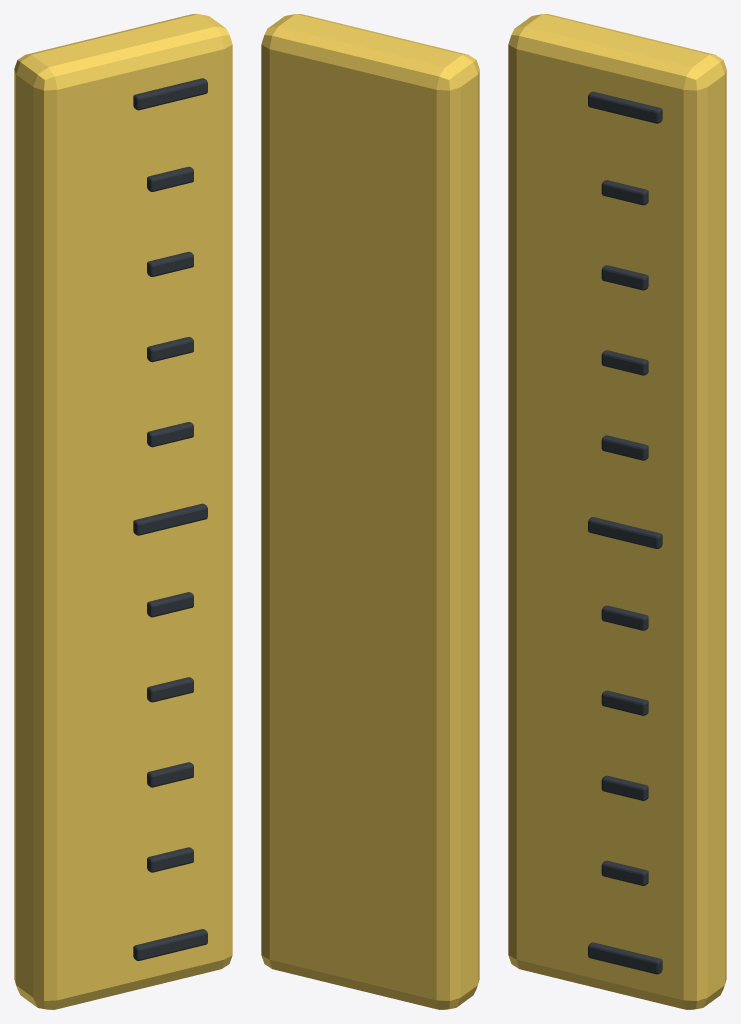
File: pickup_ruler.glb
The picture shows the model from 3 angles, left to right: view 1: azimuth 30°, elevation 25°; view 2: azimuth 150°, elevation 25°; view 3: azimuth 330°, elevation 25°; orthographic projection.
Visible parts, largest first — view 1: Wood ruler, Measurement mark.005, Measurement mark.010, Measurement mark, Measurement mark.002, Measurement mark.003, Measurement mark.001, Measurement mark.004, Measurement mark.006, Measurement mark.007, Measurement mark.009, Measurement mark.008; view 2: Wood ruler; view 3: Wood ruler, Measurement mark, Measurement mark.010, Measurement mark.005, Measurement mark.009, Measurement mark.008, Measurement mark.006, Measurement mark.007, Measurement mark.002, Measurement mark.004, Measurement mark.001, Measurement mark.003.
Boxes of the visible parts, x1,y1,x2,y2 form: Wood ruler: (14, 14, 232, 1009); Measurement mark.005: (133, 503, 207, 535); Measurement mark.010: (133, 78, 207, 110); Measurement mark: (133, 929, 207, 960); Measurement mark.002: (147, 762, 193, 787); Measurement mark.003: (147, 677, 193, 702); Measurement mark.001: (147, 847, 193, 872); Measurement mark.004: (147, 592, 193, 617); Measurement mark.006: (147, 422, 193, 447); Measurement mark.007: (147, 337, 193, 362); Measurement mark.009: (147, 166, 193, 191); Measurement mark.008: (147, 251, 193, 276); Wood ruler: (261, 14, 479, 1009); Wood ruler: (508, 14, 726, 1009); Measurement mark: (588, 942, 662, 974); Measurement mark.010: (588, 91, 662, 123); Measurement mark.005: (588, 517, 662, 548); Measurement mark.009: (601, 180, 648, 205); Measurement mark.008: (601, 265, 648, 290); Measurement mark.006: (601, 435, 648, 460); Measurement mark.007: (601, 350, 648, 375); Measurement mark.002: (601, 775, 648, 800); Measurement mark.004: (601, 605, 648, 630); Measurement mark.001: (601, 860, 648, 885); Measurement mark.003: (601, 690, 648, 715).
Bounding box in the file's own units: 0.18 × 0.82 × 0.0625.
